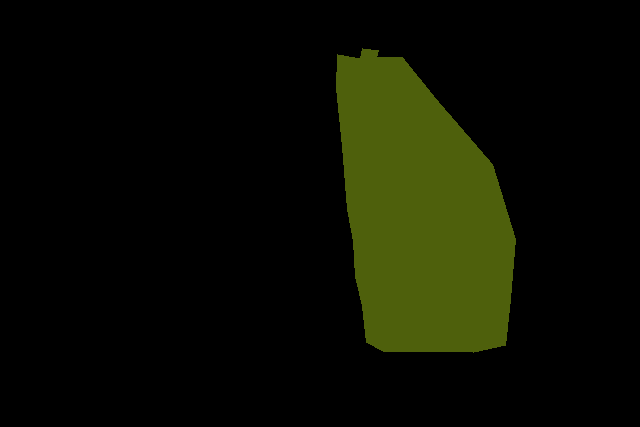Train: (336, 48, 516, 353)
